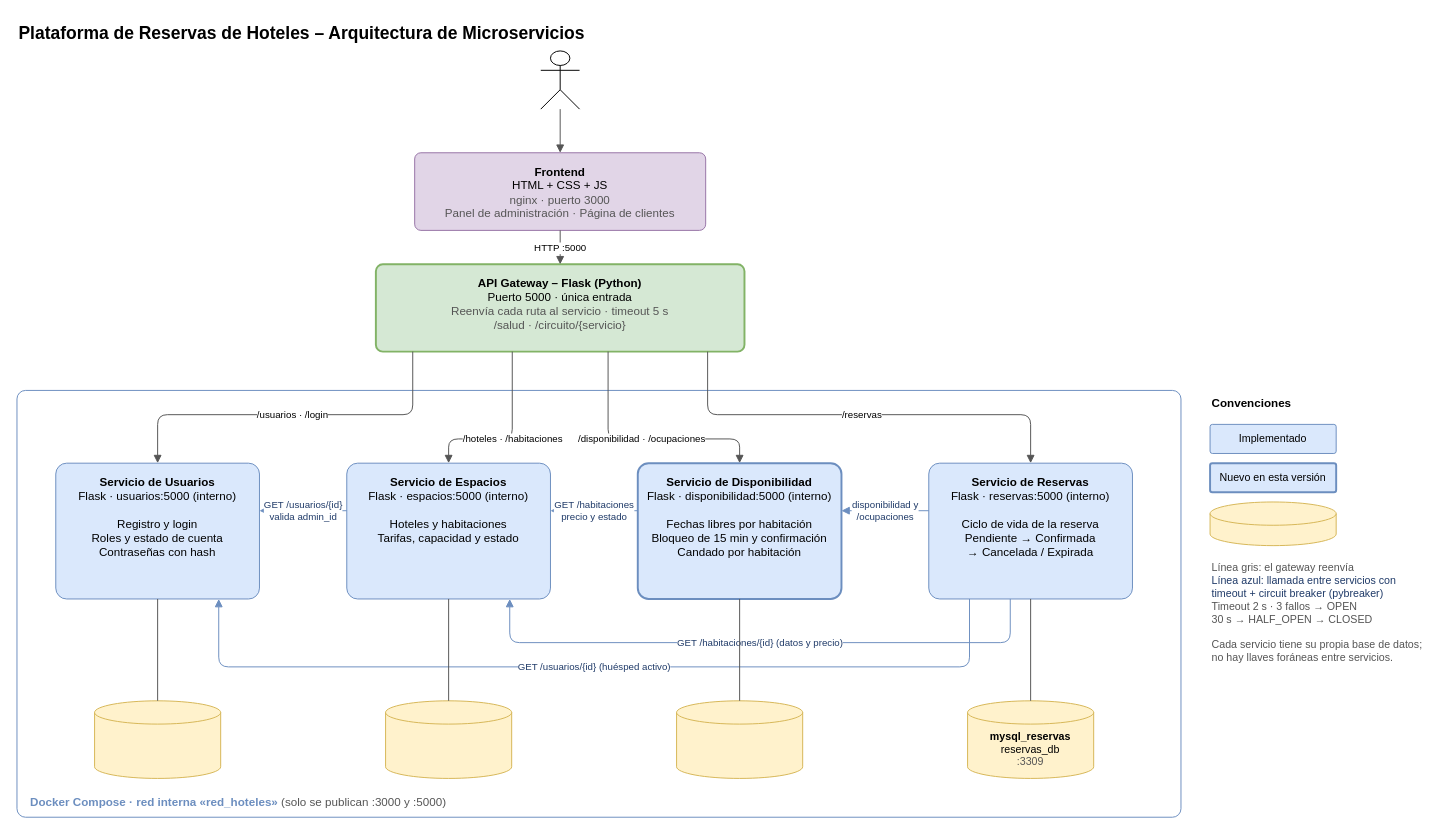
Some shapes in this 1450 by 834 pixel diagram are drawn without their labels. The shapes that lost their labels are listed below. From the top down, each one's box as (x1, y1, x2, y2) in pixels, then its label:
(540, 50, 580, 109): Usuario (cliente, agencia, administrador)
(1209, 501, 1336, 546): Base de datos
(94, 700, 221, 778): mysql_usuarios usuarios_db :3307
(385, 700, 512, 778): mysql_espacios espacios_db :3308
(676, 700, 803, 778): mysql_disponibilidad disponibilidad_db :3310
